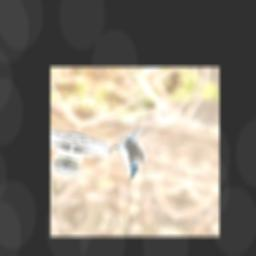Swallow: (100, 116, 160, 183)
